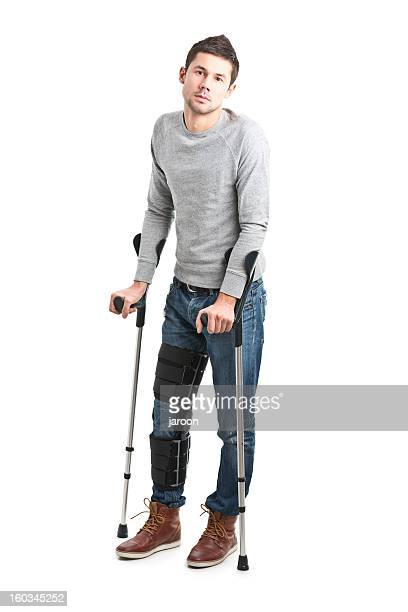crutches: (108, 33, 269, 571)
